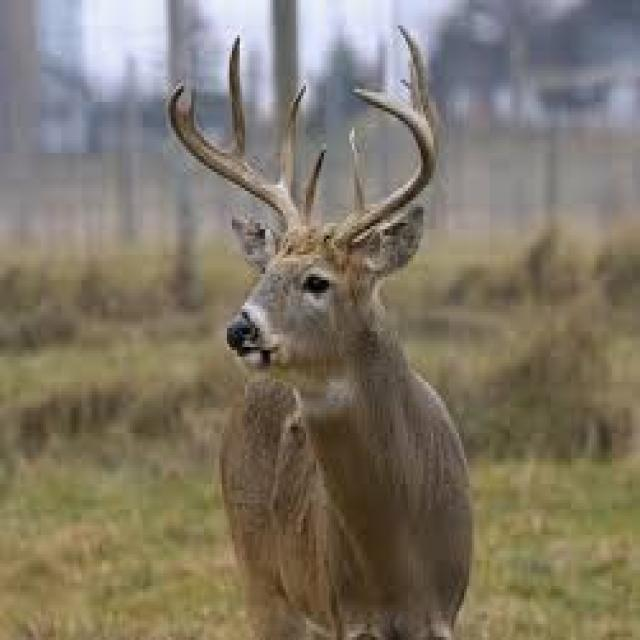E1: (187, 84, 197, 130)
L-F: (331, 86, 439, 251)
L-G1: (348, 126, 365, 214)
R-G1: (302, 143, 328, 222)
R-G2: (279, 84, 308, 198)
R-G3: (228, 34, 246, 162)
